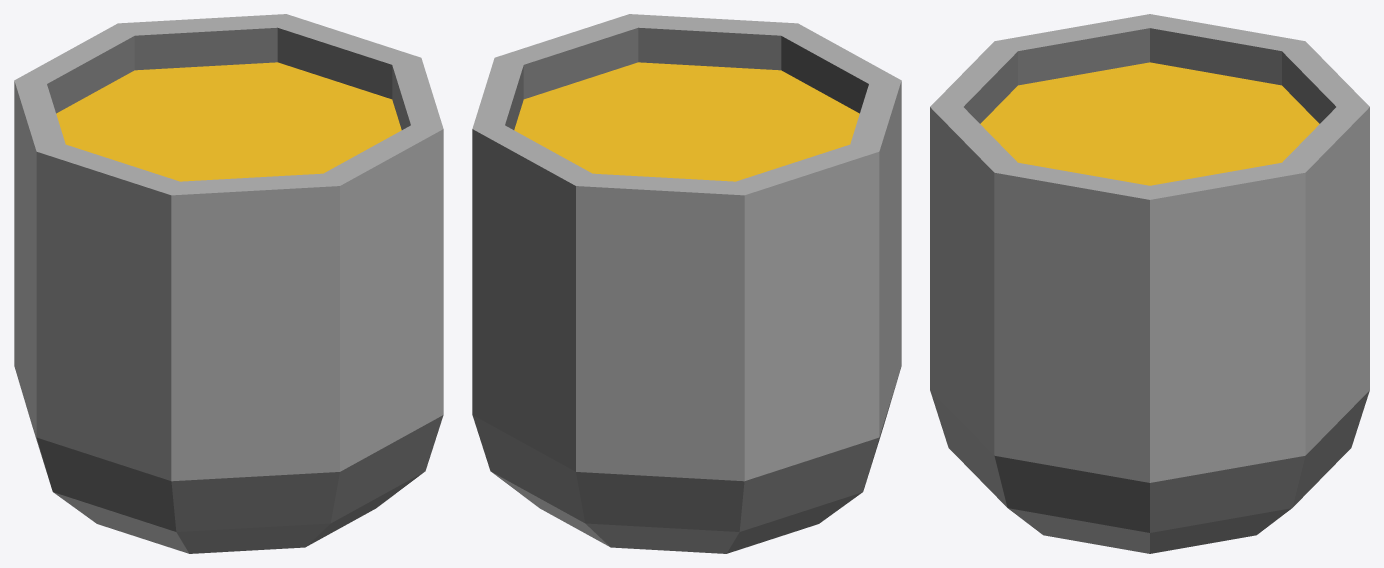
Rendered from Light2.glb.
3 views of the same model, side by side, from view 1: azimuth 30°, elevation 25°; view 2: azimuth 150°, elevation 25°; view 3: azimuth 270°, elevation 25° (orthographic).
Parts seen in each view (by area): view 1: Cylinder.001; view 2: Cylinder.001; view 3: Cylinder.001.
Part boxes in pixels (x1,y1,x2,y2): Cylinder.001: [14, 14, 443, 553]; Cylinder.001: [472, 14, 901, 553]; Cylinder.001: [930, 14, 1369, 553].
Bounding box in the file's own units: 1.67 × 1.67 × 1.67.
Materials: 1 (1 with a texture image).
